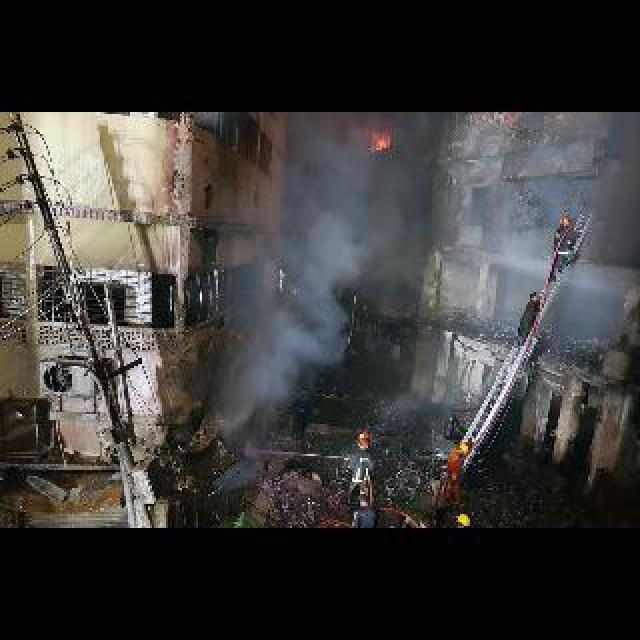Fire: (360, 130, 400, 154)
Smoke: (248, 174, 408, 358), (204, 310, 330, 450)
